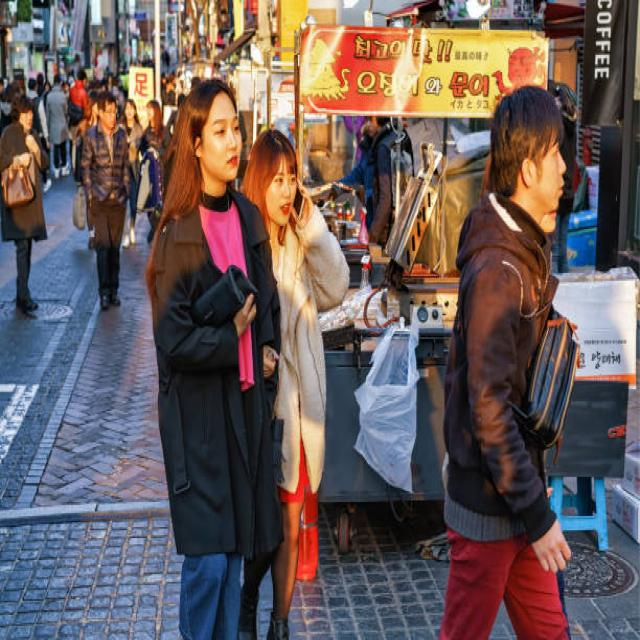Emperan: (242, 0, 570, 599)
